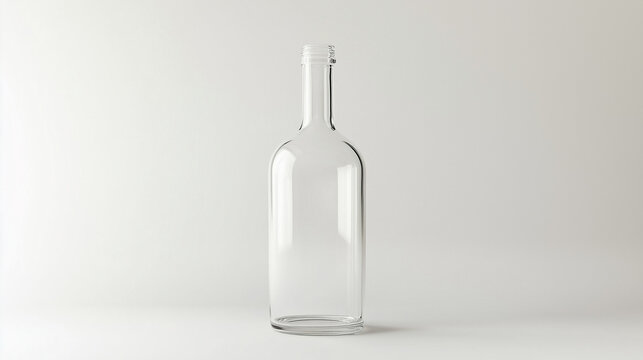glass_bottle: (258, 35, 377, 342)
